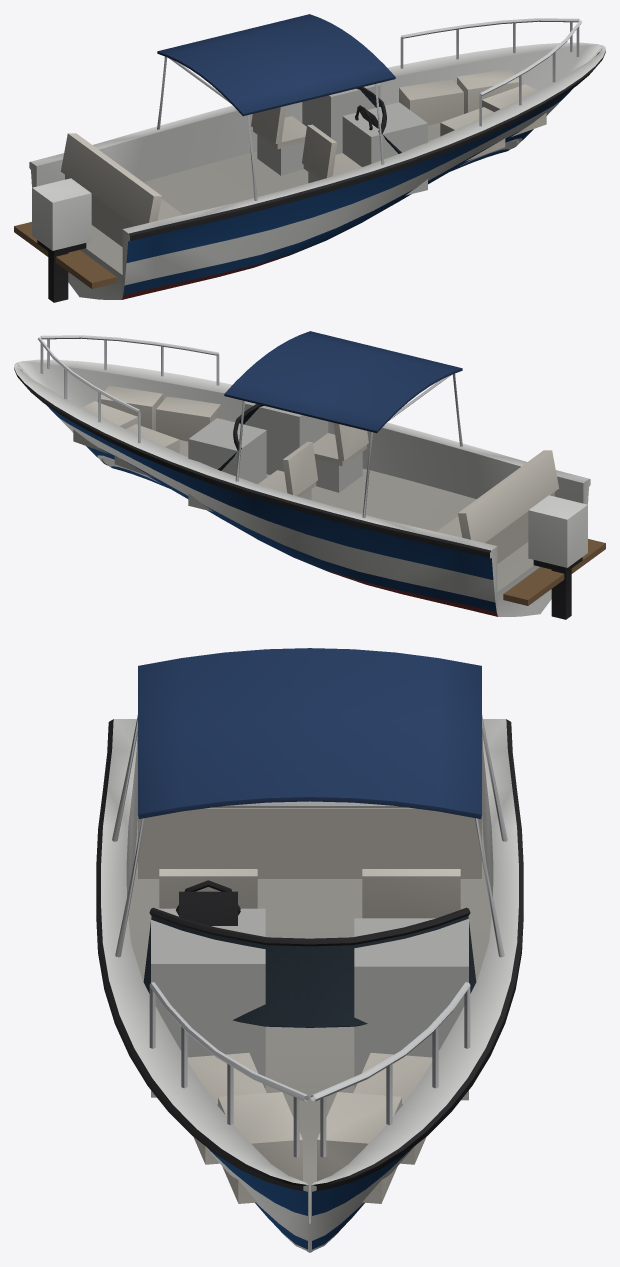
File: runabout.glb
The picture shows the model from 3 angles, top to bottom: view 1: azimuth 30°, elevation 25°; view 2: azimuth 150°, elevation 25°; view 3: azimuth 270°, elevation 25°; orthographic projection. The views are drawn at different scales.
Parts seen in each view (by area): view 1: lod0; view 2: lod0; view 3: lod0.
Boxes of the visible parts, x1,y1,x2,y2 form: lod0: [14, 14, 605, 302]; lod0: [14, 331, 605, 619]; lod0: [96, 648, 523, 1252].
Size of what is drawn, in the model's own units: 7.92 by 2.61 by 2.61.
